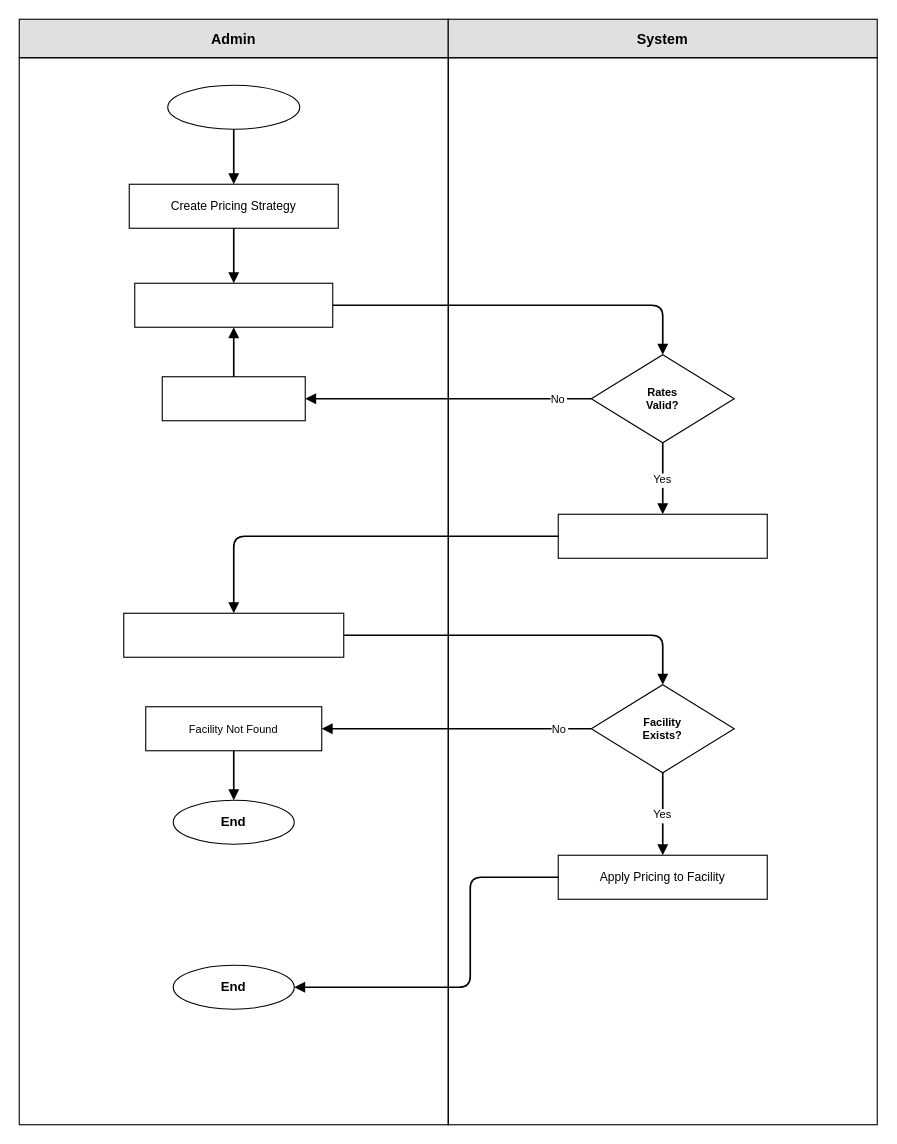
This 897x1144 diagram has some shape labels left out. The centre of each missing label's shape, as x and y in pixels:
Assign Pricing to Facility: the point at 233,634
Configure Block Rates: the point at 233,304
Display Error: the point at 233,398
Start: the point at 233,106
Validate & Save Pricing: the point at 662,535
